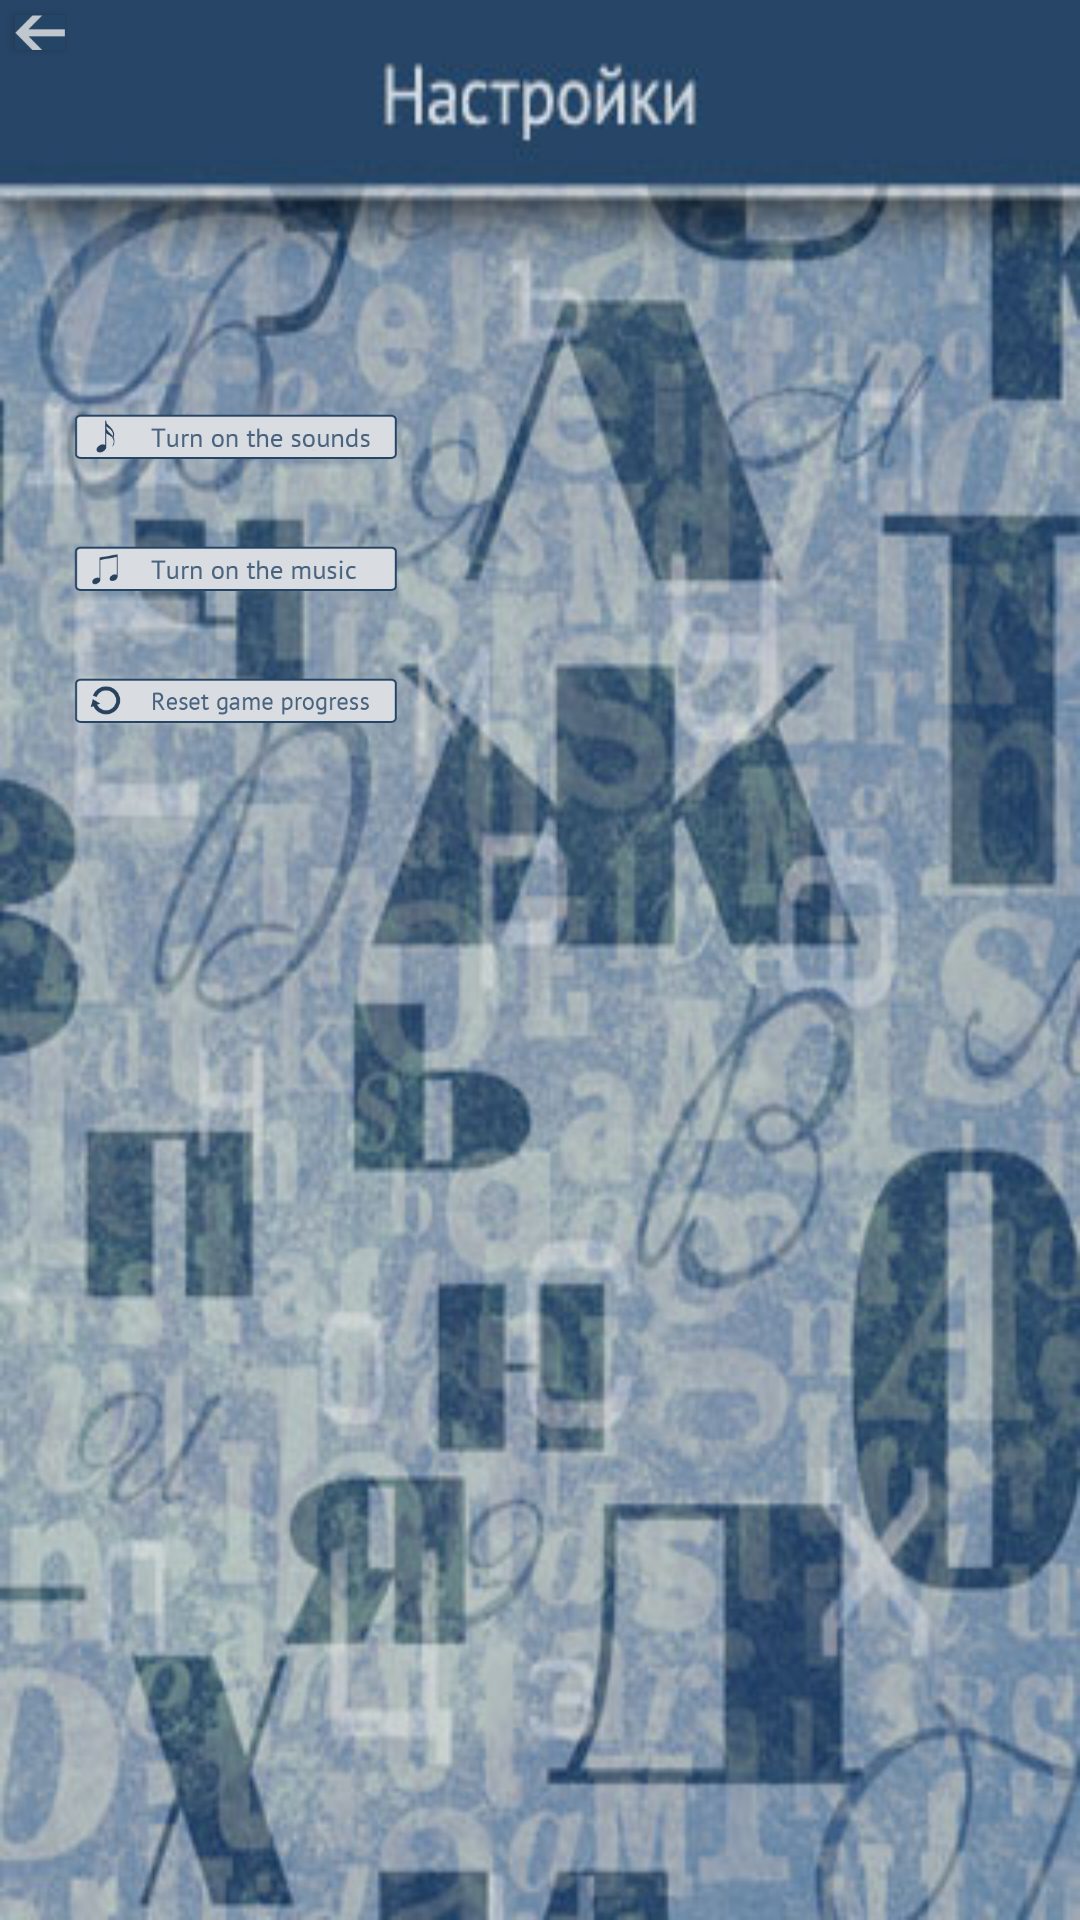

Icon click points for this 1080 × 1920 phone screenshot, format point (x, y):
arrow: point (40, 32)
